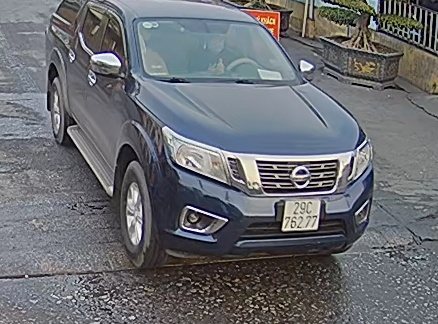vehicle plate: (280, 192, 320, 235)
